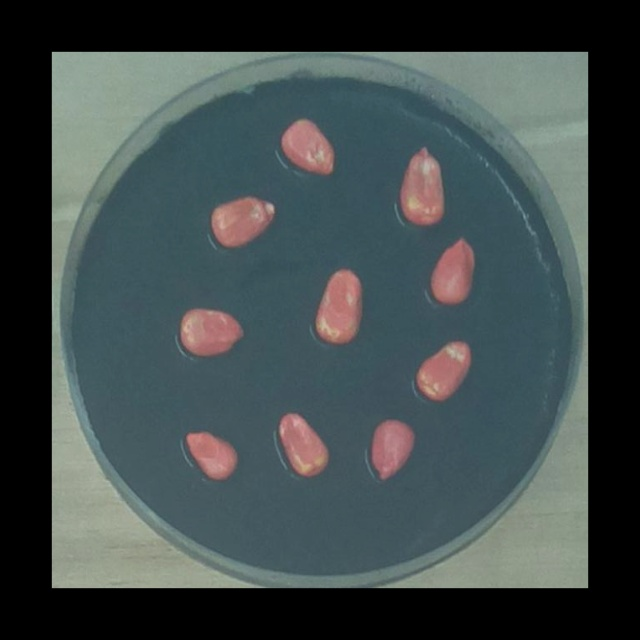Zea mays: (309, 263, 368, 349), (394, 139, 449, 230), (273, 406, 335, 485), (409, 335, 475, 408), (206, 190, 281, 253), (276, 114, 342, 182), (175, 303, 250, 362), (425, 231, 480, 311), (180, 423, 244, 485), (366, 413, 420, 485)
